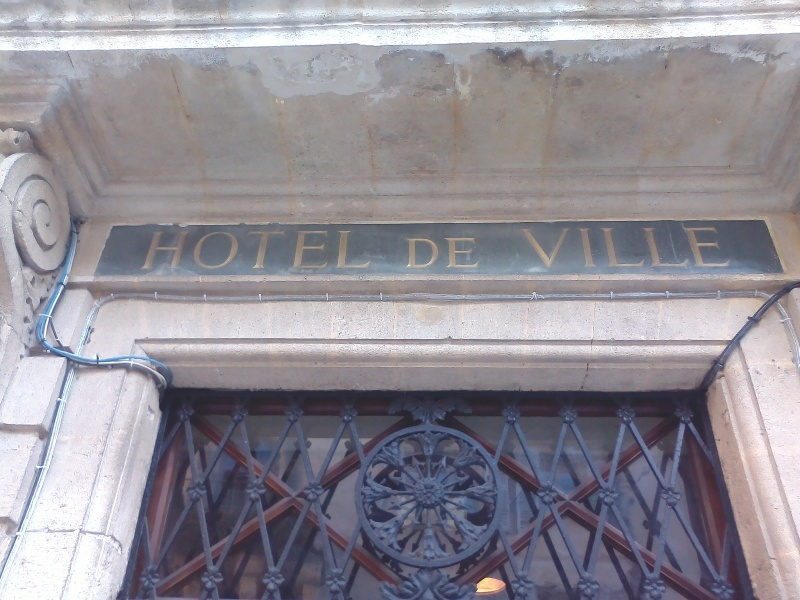text: (529, 225, 544, 270), (545, 225, 560, 270), (561, 225, 576, 270), (577, 225, 592, 270), (593, 225, 608, 270), (609, 225, 624, 270), (625, 225, 640, 270), (641, 225, 656, 270), (657, 225, 672, 270), (673, 225, 688, 270), (689, 225, 704, 270), (705, 225, 720, 270), (161, 229, 176, 271), (177, 229, 192, 271), (193, 229, 208, 271), (209, 229, 224, 271), (225, 229, 240, 271), (241, 229, 256, 271), (257, 229, 272, 271), (273, 229, 288, 271), (289, 229, 304, 271), (305, 229, 320, 271), (321, 229, 336, 271), (337, 229, 352, 271), (353, 229, 368, 271), (721, 225, 734, 270), (417, 237, 432, 270), (433, 237, 448, 270), (449, 237, 464, 270), (465, 237, 480, 270), (518, 225, 528, 270), (406, 237, 416, 270), (153, 229, 160, 271), (369, 229, 373, 271), (481, 237, 482, 270)
